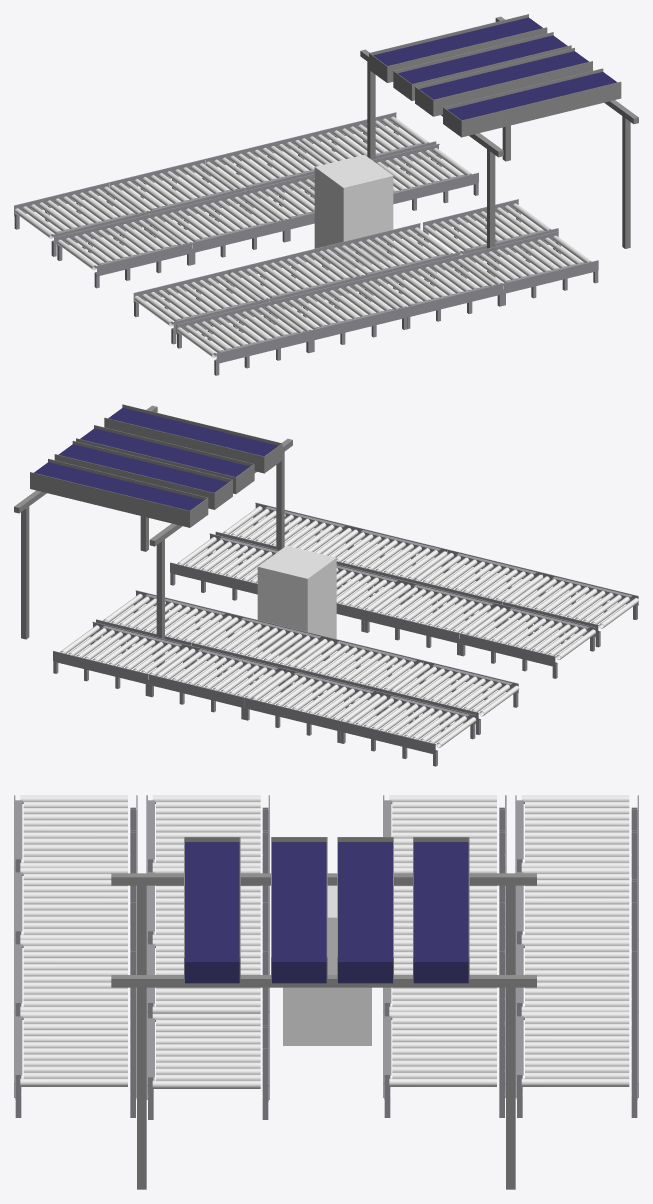
The model's file is cell_layout.glb.
3 views of the same model, one above another, from view 1: azimuth 30°, elevation 25°; view 2: azimuth 150°, elevation 25°; view 3: azimuth 270°, elevation 25° (orthographic). The views are drawn at different scales.
Parts seen in each view (by area): view 1: Esteira1 (×4), Y-Bearing Cover (×14), Y-Bearing Cover004 (×7), ChapaFrontal.003 (×4), Pedestal, ChapaFrontal.001 (×4), Pes_Esteira.004, Pes_Esteira.002, Pes_Esteira.003; view 2: Esteira1 (×4), Y-Bearing Cover (×7), ChapaFrontal.001 (×4), Pedestal, ChapaFrontal.003 (×4), Pes_Esteira.005, Pes_Esteira.003, Pes_Esteira.002; view 3: Esteira1 (×4), New Roller008 (×12), New Roller (×12), New Roller 064 (×12), New Roller 056 (×12), New Roller 072 (×12), New Roller 2 (×12), New Roller 032 (×12), New Roller 040 (×12), New Roller 016 (×12), New Roller 024 (×12), New Roller 008 (×11) (+8 smaller).
Part boxes in pixels (x1,y1,x2,y2): Esteira1 (×4): [373, 17, 617, 120]; Y-Bearing Cover (×14): [14, 112, 558, 334]; Y-Bearing Cover004 (×7): [96, 172, 598, 364]; ChapaFrontal.003 (×4): [387, 27, 621, 137]; Pedestal: [314, 155, 393, 268]; ChapaFrontal.001 (×4): [369, 14, 603, 123]; Pes_Esteira.004: [622, 114, 630, 248]; Pes_Esteira.002: [487, 147, 495, 277]; Pes_Esteira.003: [367, 59, 375, 162]; Esteira1 (×4): [34, 407, 278, 510]; Y-Bearing Cover (×7): [53, 562, 555, 754]; ChapaFrontal.001 (×4): [30, 417, 264, 527]; Pedestal: [257, 545, 336, 659]; ChapaFrontal.003 (×4): [48, 404, 282, 499]; Pes_Esteira.005: [21, 504, 29, 639]; Pes_Esteira.003: [156, 537, 164, 667]; Pes_Esteira.002: [276, 449, 284, 550]; Esteira1 (×4): [185, 842, 468, 983]; New Roller008 (×12): [20, 862, 629, 1088]; New Roller (×12): [20, 795, 629, 1021]; New Roller 064 (×12): [23, 850, 629, 1074]; New Roller 056 (×12): [23, 844, 629, 1068]; New Roller 072 (×12): [23, 856, 629, 1080]; New Roller 2 (×12): [23, 801, 629, 1025]; New Roller 032 (×12): [23, 826, 629, 1050]; New Roller 040 (×12): [23, 832, 629, 1056]; New Roller 016 (×12): [23, 814, 629, 1037]; New Roller 024 (×12): [23, 820, 629, 1043]; New Roller 008 (×11): [23, 808, 629, 1031].
Size of what is drawn, in the model's own units: 8.71 by 2.76 by 6.61.
